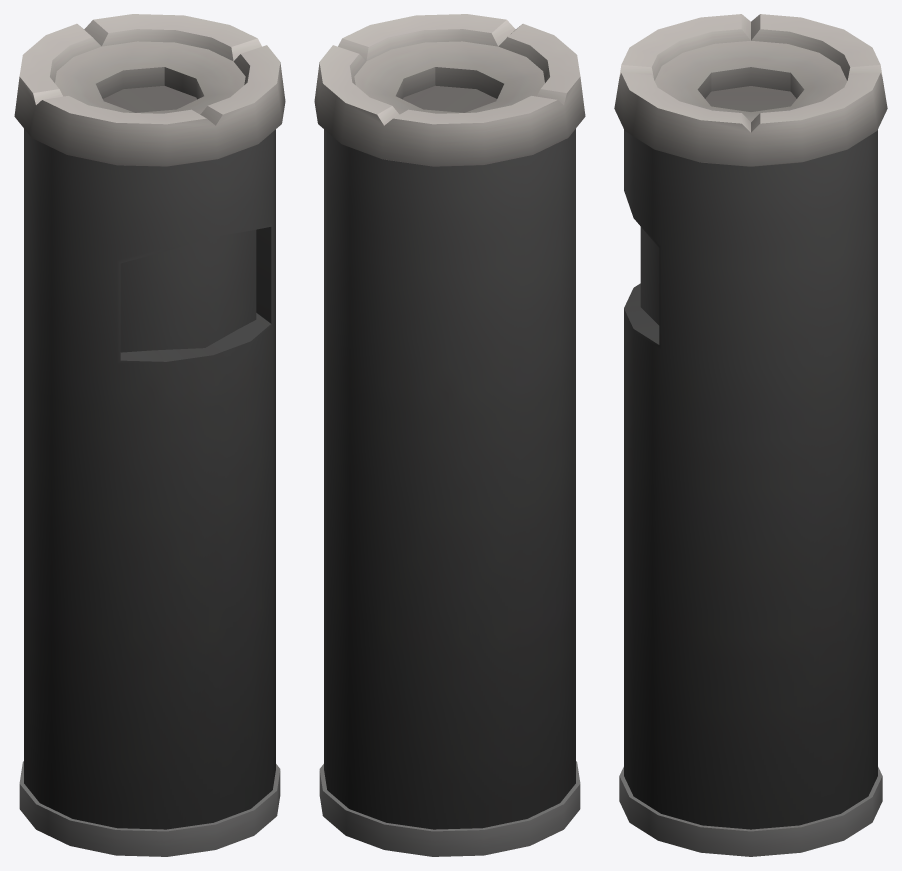
The model's file is RetroAshtrayBin.fbx.
The picture shows the model from 3 angles, left to right: view 1: azimuth 30°, elevation 25°; view 2: azimuth 150°, elevation 25°; view 3: azimuth 270°, elevation 25°; orthographic projection.
Parts seen in each view (by area): view 1: RetroAshtrayBin; view 2: RetroAshtrayBin; view 3: RetroAshtrayBin.
Boxes of the visible parts, bbox=[...] form: RetroAshtrayBin: bbox=[14, 14, 285, 856]; RetroAshtrayBin: bbox=[314, 14, 585, 856]; RetroAshtrayBin: bbox=[614, 14, 887, 856].
Bounding box in the file's own units: 21.65 × 64.03 × 21.65.
